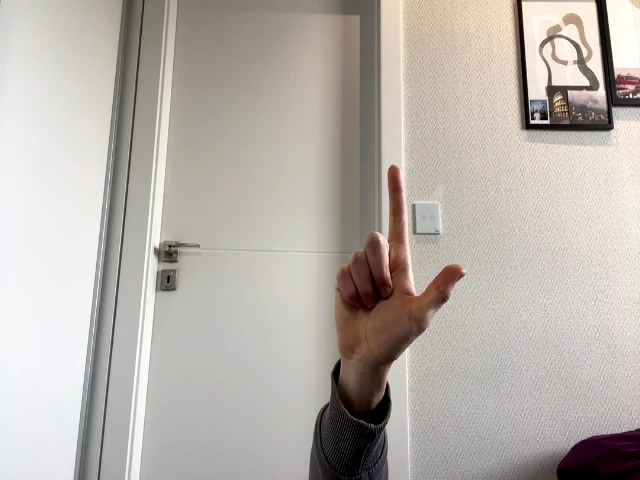L: (335, 165, 466, 382)
